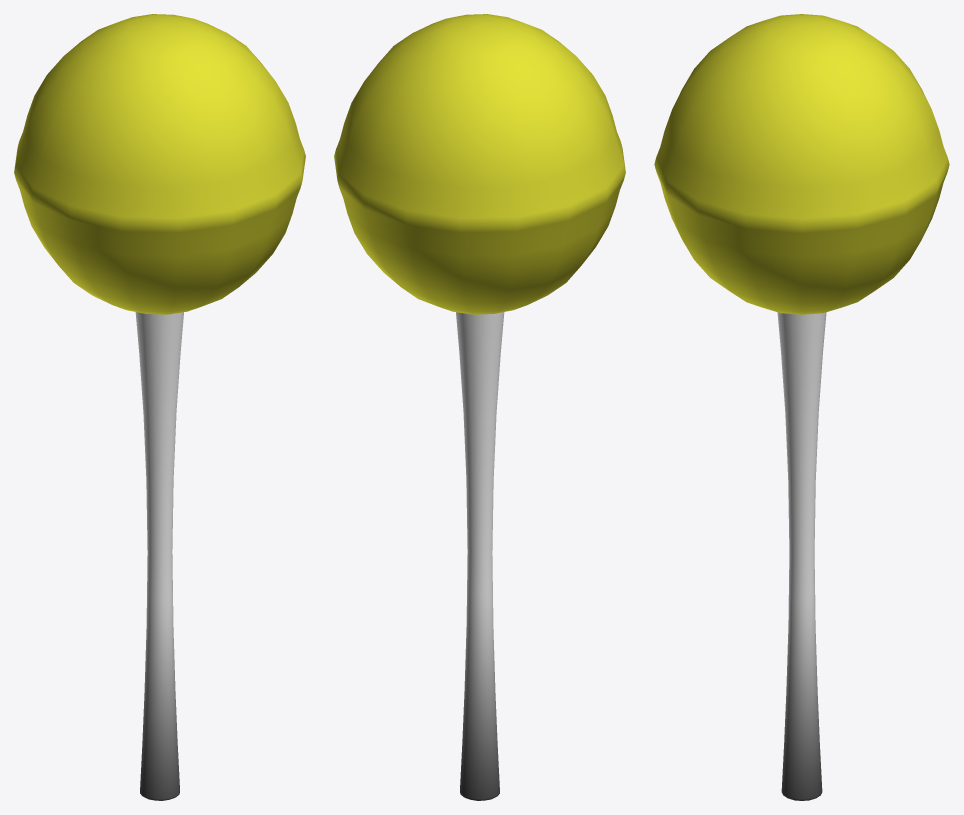
File: chupa 1.fbx
3 renders of one model, left to right at view 1: azimuth 30°, elevation 25°; view 2: azimuth 150°, elevation 25°; view 3: azimuth 270°, elevation 25°, orthographic.
Visible parts, largest first — view 1: polySurface2, polySurface1; view 2: polySurface2, polySurface1; view 3: polySurface2, polySurface1.
Boxes of the visible parts, x1,y1,x2,y2 form: polySurface2: (14, 14, 305, 314); polySurface1: (135, 312, 183, 800); polySurface2: (334, 14, 625, 314); polySurface1: (456, 312, 504, 800); polySurface2: (654, 14, 949, 314); polySurface1: (777, 312, 826, 800).
Size of the model in its own units: 0.8327 by 2.39 by 0.8327.
